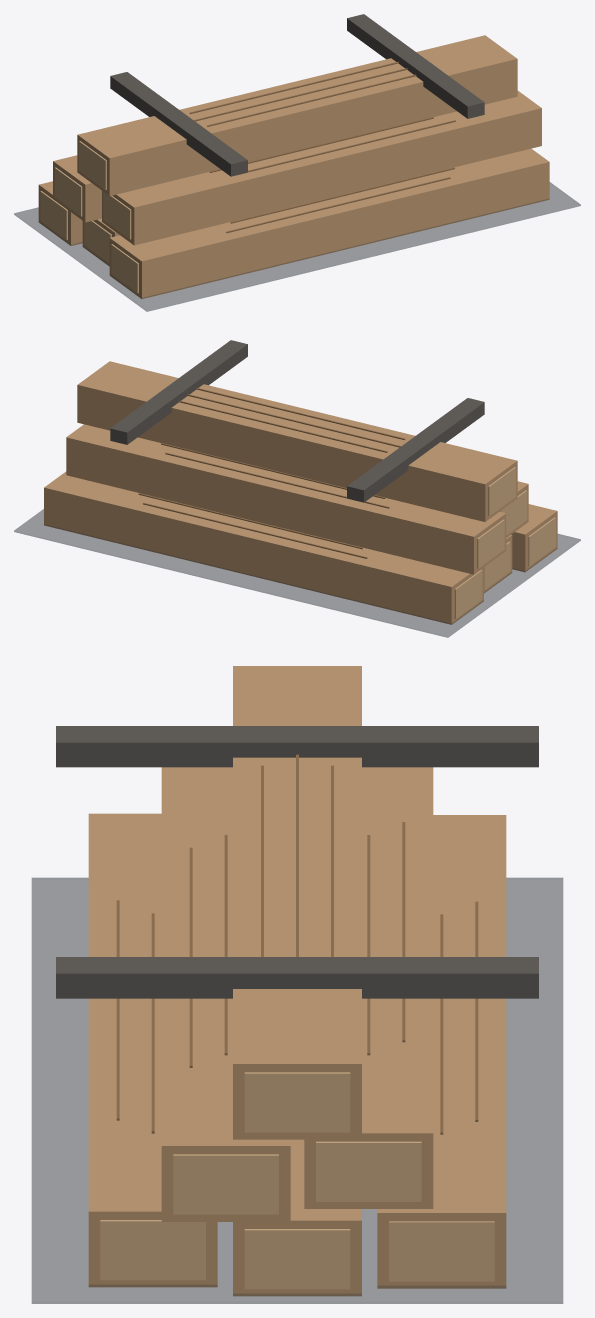
Rendered from wood.glb.
3 renders of one model, top to bottom at view 1: azimuth 30°, elevation 25°; view 2: azimuth 150°, elevation 25°; view 3: azimuth 270°, elevation 25°, orthographic. The views are drawn at different scales.
Parts seen in each view (by area): view 1: plank_06, plank_01, plank_04, stack_shadow, bundle_band_01, bundle_band_02, plank_05, end_grain_left_05, end_grain_left_04, end_grain_left_01, end_grain_left_03, end_grain_left_06 (+9 smaller); view 2: plank_06, plank_03, plank_05, stack_shadow, bundle_band_01, bundle_band_02, plank_01, end_grain_left_03, end_grain_left_01, end_grain_left_05, end_grain_left_06, end_grain_left_02 (+8 smaller); view 3: stack_shadow, plank_06, plank_03, plank_01, plank_04, plank_05, bundle_band_02, bundle_band_01, end_grain_right_06, end_grain_right_02, end_grain_right_03, end_grain_right_04 (+3 smaller).
Part boxes in pixels (x1,y1,x2,y2): plank_06: (77, 35, 517, 195); plank_01: (109, 148, 549, 298); plank_04: (102, 91, 541, 245); stack_shadow: (14, 182, 580, 311); bundle_band_01: (110, 72, 247, 176); bundle_band_02: (347, 14, 484, 118); plank_05: (53, 155, 101, 222); end_grain_left_05: (54, 167, 82, 216); end_grain_left_04: (103, 192, 131, 239); end_grain_left_01: (111, 244, 138, 293); end_grain_left_03: (40, 191, 67, 239); end_grain_left_06: (79, 141, 106, 189); plank_06: (77, 361, 517, 521); plank_03: (44, 471, 483, 624); plank_05: (66, 424, 506, 574); stack_shadow: (14, 509, 580, 637); bundle_band_01: (347, 398, 484, 502); bundle_band_02: (110, 340, 247, 444); plank_01: (511, 504, 557, 572); end_grain_left_03: (454, 570, 482, 618); end_grain_left_01: (528, 517, 555, 566); end_grain_left_05: (477, 519, 504, 568); end_grain_left_06: (488, 467, 515, 515); end_grain_left_02: (484, 541, 510, 590); stack_shadow: (31, 877, 563, 1303); plank_06: (233, 666, 361, 1139); plank_03: (377, 815, 506, 1288); plank_01: (88, 813, 217, 1287); plank_04: (161, 767, 290, 1221); plank_05: (304, 767, 433, 1208); bundle_band_02: (56, 957, 538, 998); bundle_band_01: (56, 726, 538, 767); end_grain_right_06: (244, 1072, 350, 1132); end_grain_right_02: (244, 1229, 350, 1289); end_grain_right_03: (389, 1221, 494, 1281); end_grain_right_04: (173, 1154, 278, 1214).
Bounding box in the file's own units: 0.66 × 0.176 × 0.35.
